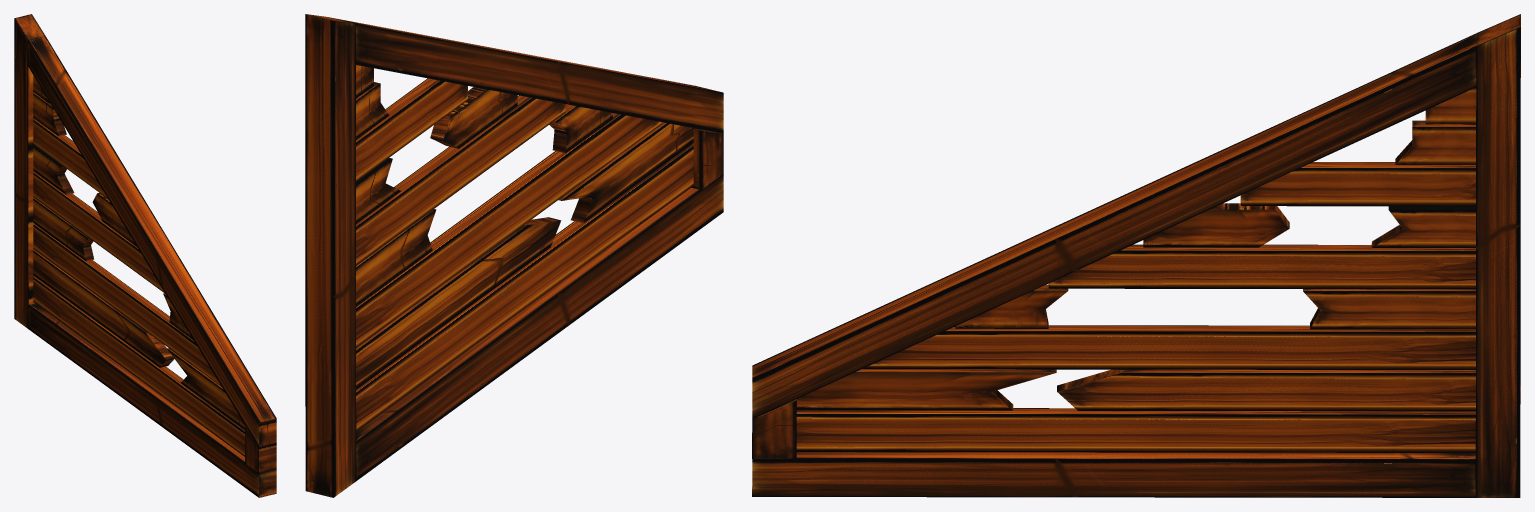
Rendered from corner roof.fbx.
3 views of the same model, side by side, from view 1: azimuth 30°, elevation 25°; view 2: azimuth 150°, elevation 25°; view 3: azimuth 270°, elevation 25° (orthographic). The views are drawn at different scales.
Visible parts, largest first — view 1: wall_roof; view 2: wall_roof; view 3: wall_roof.
Part boxes in pixels (x1=…): wall_roof: x1=14, y1=14, x2=276, y2=497; wall_roof: x1=305, y1=14, x2=723, y2=497; wall_roof: x1=752, y1=14, x2=1520, y2=497.
Bounding box in the file's own units: 17.5 × 277 × 410.
